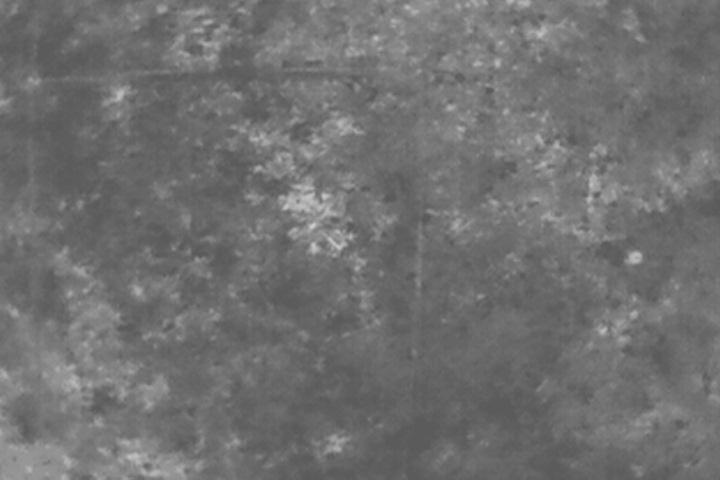landmine: (286, 189, 315, 214), (627, 250, 646, 267)
